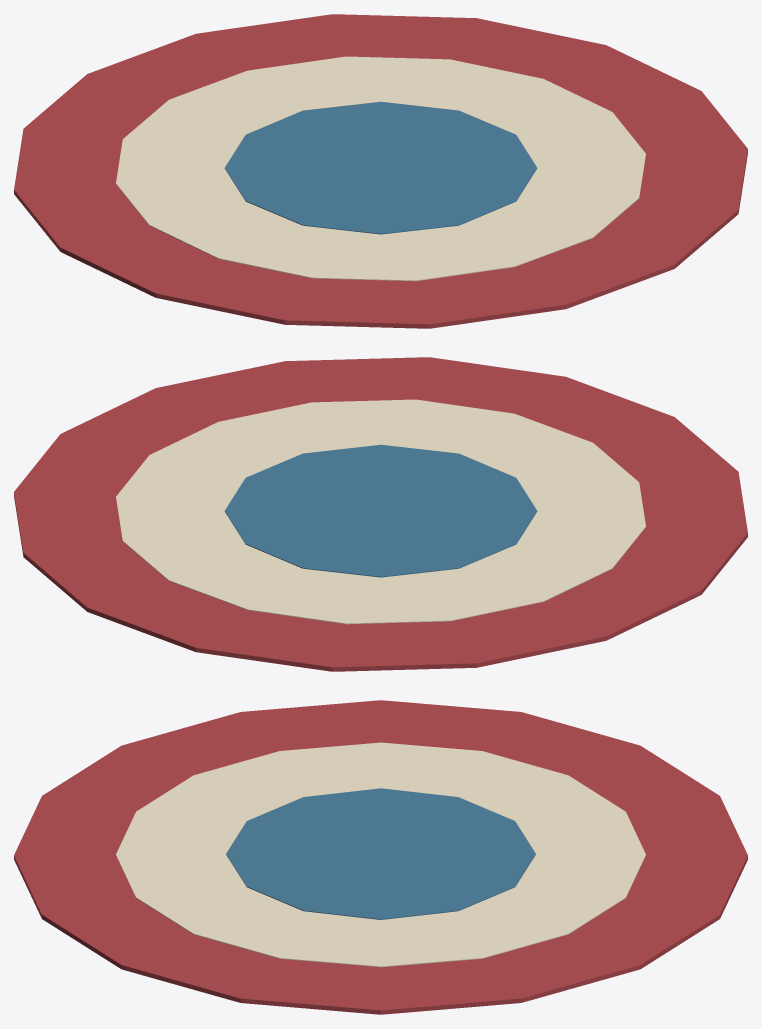
Rendered from round_rug.glb.
3 renders of one model, top to bottom at view 1: azimuth 30°, elevation 25°; view 2: azimuth 150°, elevation 25°; view 3: azimuth 270°, elevation 25°, orthographic.
Visible parts, largest first — view 1: round_rug; view 2: round_rug; view 3: round_rug.
Part boxes in pixels (x1,y1,x2,y2): round_rug: [14, 14, 747, 328]; round_rug: [14, 357, 747, 671]; round_rug: [14, 700, 747, 1014].
Size of the model in its own units: 1.8 by 0.016 by 1.8.
